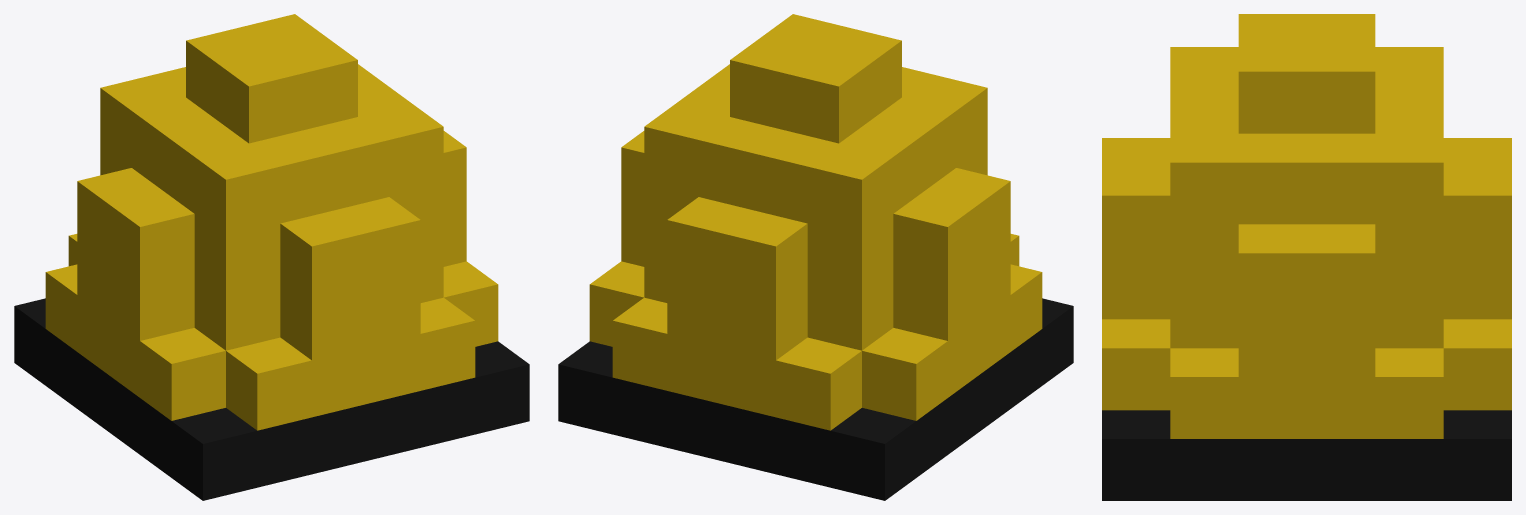
Rendered from beacon_amber.glb.
3 renders of one model, left to right at view 1: azimuth 30°, elevation 25°; view 2: azimuth 150°, elevation 25°; view 3: azimuth 270°, elevation 25°, orthographic. The views are drawn at different scales.
Parts seen in each view (by area): view 1: body:compound; view 2: body:compound; view 3: body:compound.
Part boxes in pixels (x1,y1,x2,y2): body:compound: (14, 14, 529, 500); body:compound: (558, 14, 1073, 500); body:compound: (1102, 14, 1511, 500).
Bounding box in the file's own units: 0.1875 × 0.1875 × 0.1875.
